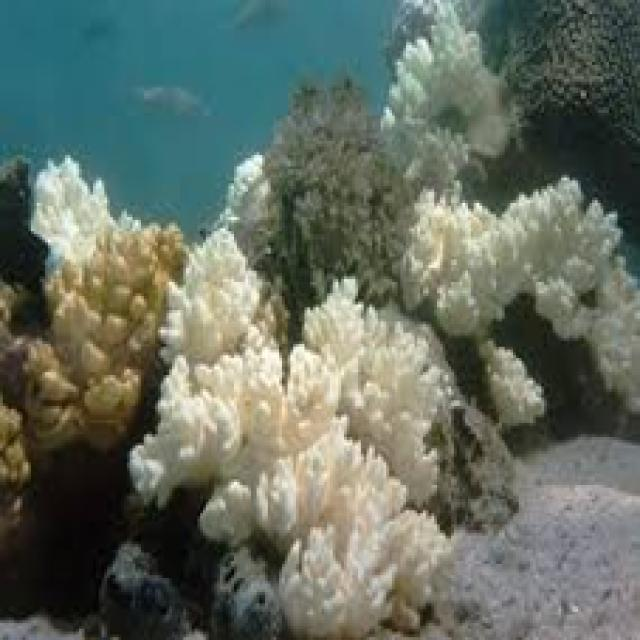Bleached: (399, 183, 622, 326), (302, 289, 448, 499), (375, 11, 514, 155), (134, 359, 237, 501), (279, 524, 389, 638), (162, 229, 260, 354), (256, 447, 406, 525), (34, 158, 132, 263), (386, 115, 481, 207), (230, 334, 290, 479), (375, 512, 450, 614), (593, 258, 640, 416), (221, 148, 282, 260), (481, 340, 553, 431), (286, 345, 347, 452), (522, 275, 592, 338), (201, 477, 259, 547)
Healthy: (37, 219, 186, 455), (1, 396, 40, 529), (1, 277, 32, 393)
